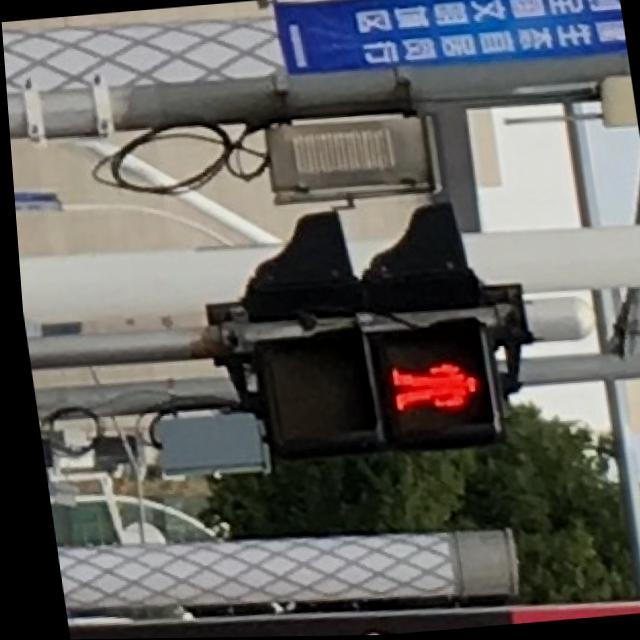red_light: (375, 332, 490, 432)
